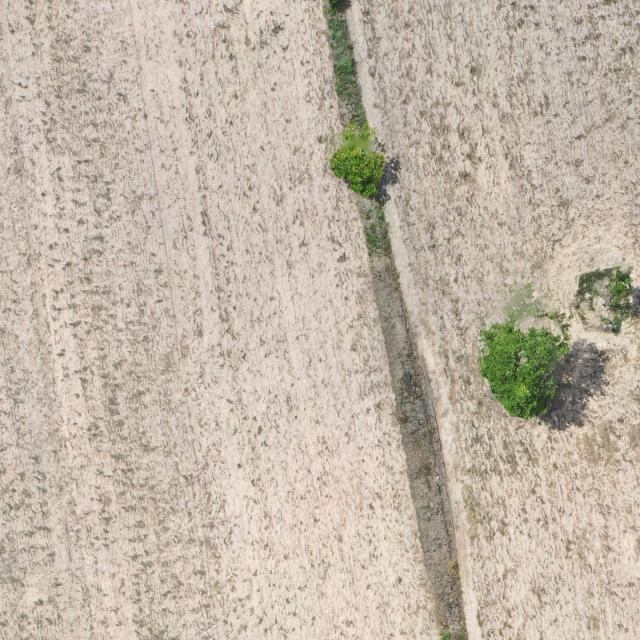tree: (476, 322, 570, 422), (329, 122, 388, 198)
